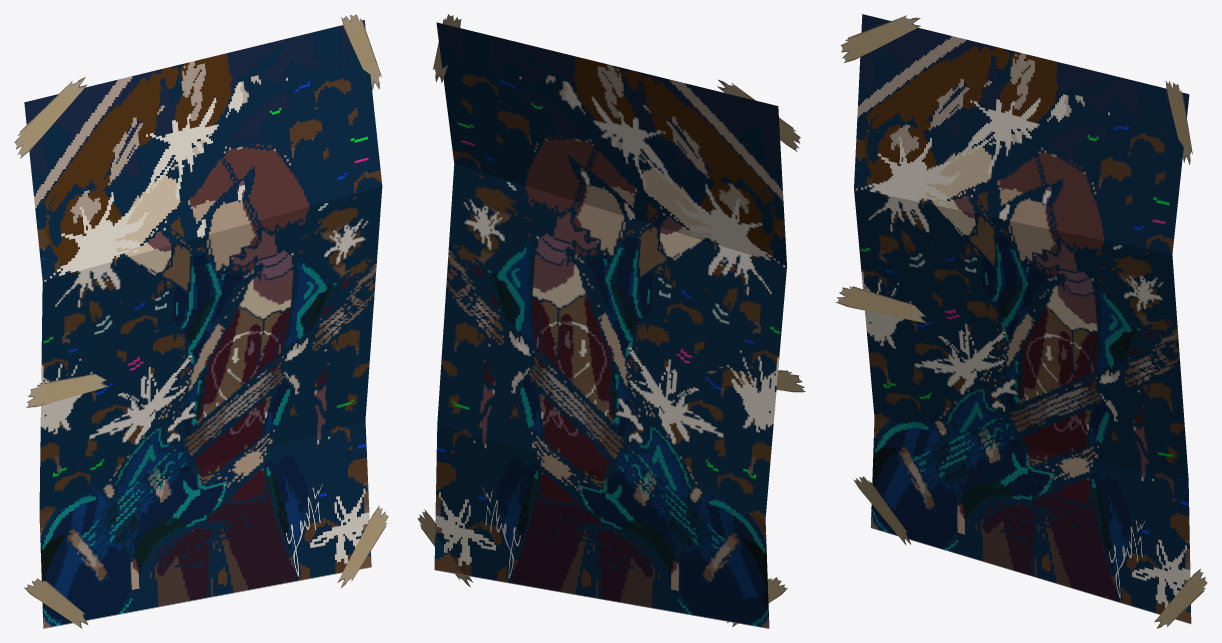
Rendered from PosterRock.fbx.
The picture shows the model from 3 angles, left to right: view 1: azimuth 30°, elevation 25°; view 2: azimuth 150°, elevation 25°; view 3: azimuth 330°, elevation 25°; orthographic projection. The views are drawn at different scales.
Parts seen in each view (by area): view 1: Poster, Tape, Tape.003, Tape.001, Tape.004, Tape.002; view 2: Poster, Tape; view 3: Poster, Tape, Tape.003, Tape.001, Tape.004, Tape.002.
Part boxes in pixels (x1,y1,x2,y2): Poster: (24, 20, 382, 628); Tape: (14, 77, 87, 158); Tape.003: (26, 374, 108, 407); Tape.001: (337, 505, 388, 588); Tape.004: (341, 14, 381, 90); Tape.002: (24, 578, 88, 628); Poster: (434, 22, 786, 628); Tape: (717, 79, 800, 151); Poster: (854, 14, 1191, 623); Tape: (840, 15, 920, 62); Tape.003: (835, 286, 926, 323); Tape.001: (1154, 568, 1207, 628); Tape.004: (1165, 81, 1192, 164); Tape.002: (853, 476, 911, 545).
Bounding box in the file's own units: 232 × 334 × 19.26.
Materials: 6 (6 with a texture image).
